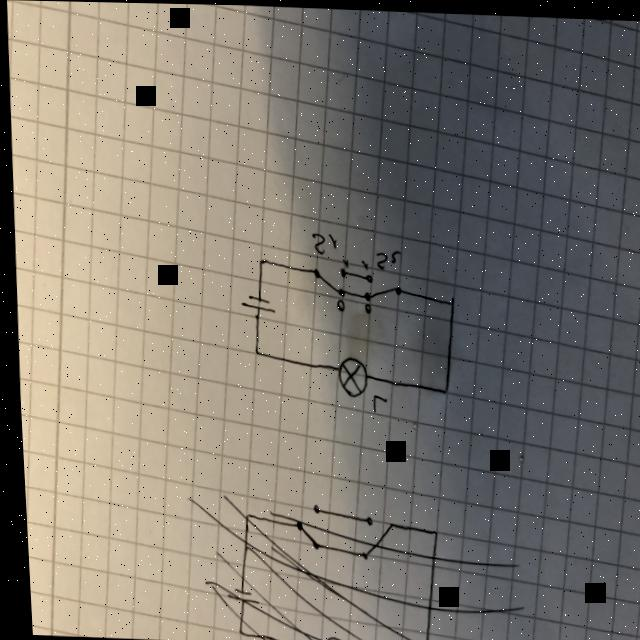junction: (434, 379, 447, 396), (440, 291, 453, 307), (250, 253, 263, 269), (246, 342, 258, 356)
source: (234, 290, 275, 314)
switch: (307, 263, 346, 298), (358, 272, 398, 304)
text: (307, 227, 335, 256), (369, 245, 400, 271), (364, 390, 383, 413), (330, 295, 343, 311), (358, 299, 370, 315), (356, 256, 367, 269), (336, 254, 347, 266)
